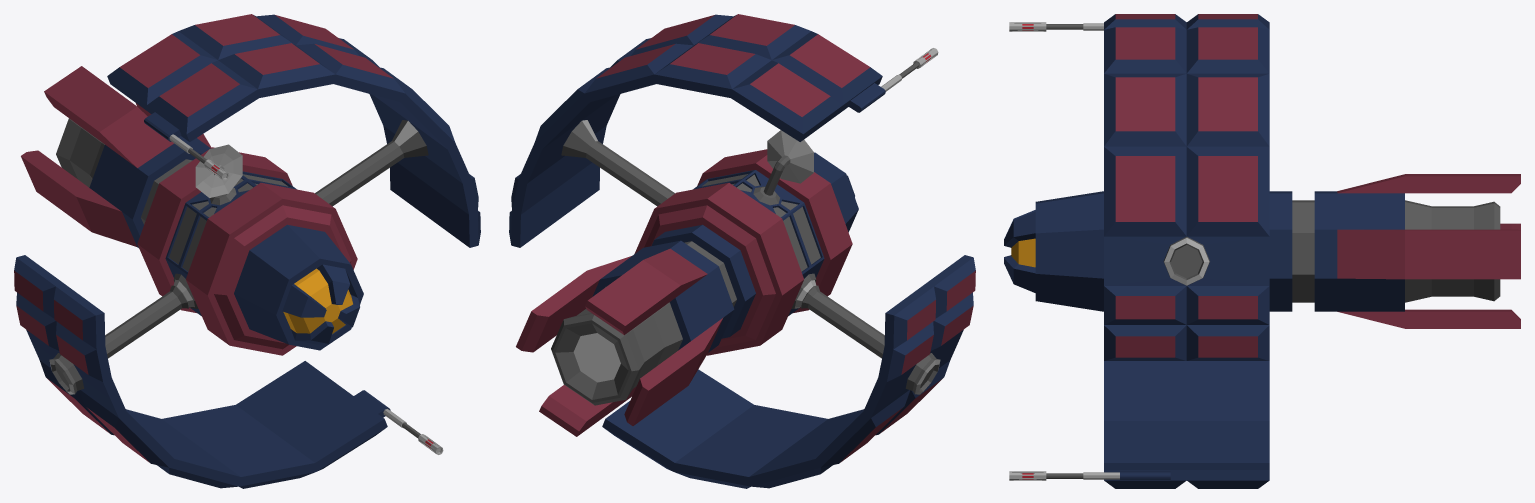
The model's file is spaceship_2.fbx.
3 renders of one model, left to right at view 1: azimuth 30°, elevation 25°; view 2: azimuth 150°, elevation 25°; view 3: azimuth 270°, elevation 25°, orthographic. The views are drawn at different scales.
Visible parts, largest first — view 1: spaceship_2; view 2: spaceship_2; view 3: spaceship_2.
Boxes of the visible parts, x1,y1,x2,y2 form: spaceship_2: (14,14,480,488); spaceship_2: (509,14,975,488); spaceship_2: (1004,14,1520,488).
Bounding box in the file's own units: 0.6785 × 0.6709 × 0.7318.
